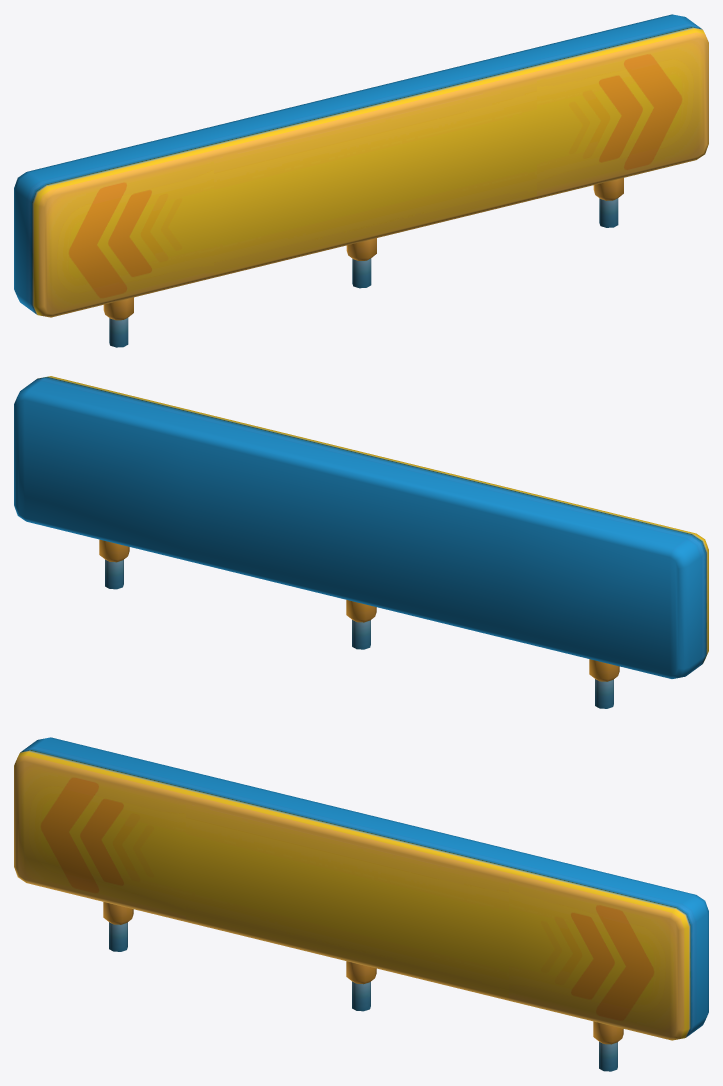
The model's file is deslizado1.fbx.
The picture shows the model from 3 angles, top to bottom: view 1: azimuth 30°, elevation 25°; view 2: azimuth 150°, elevation 25°; view 3: azimuth 330°, elevation 25°; orthographic projection.
Visible parts, largest first — view 1: RailObstacleLarge2_RailObstacleMat.001_0; view 2: RailObstacleLarge2_RailObstacleMat.001_0; view 3: RailObstacleLarge2_RailObstacleMat.001_0.
Boxes of the visible parts, bbox=[...] form: RailObstacleLarge2_RailObstacleMat.001_0: bbox=[14, 14, 708, 347]; RailObstacleLarge2_RailObstacleMat.001_0: bbox=[14, 376, 708, 708]; RailObstacleLarge2_RailObstacleMat.001_0: bbox=[14, 737, 708, 1071].
Bounding box in the file's own units: 782 × 204 × 56.31.
1 material, 1 textured.
